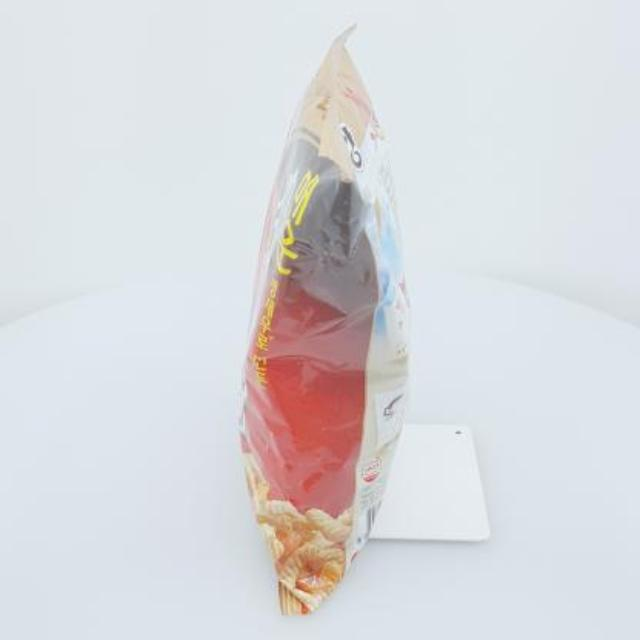snack_bag: (227, 16, 423, 624)
